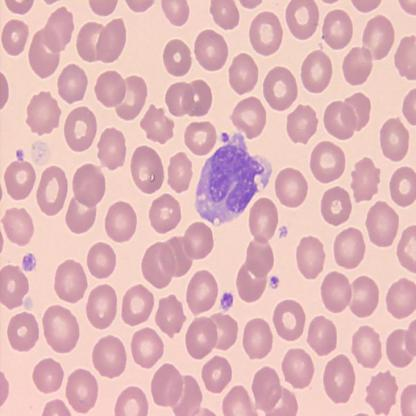Monocyte: (193, 130, 275, 230)
